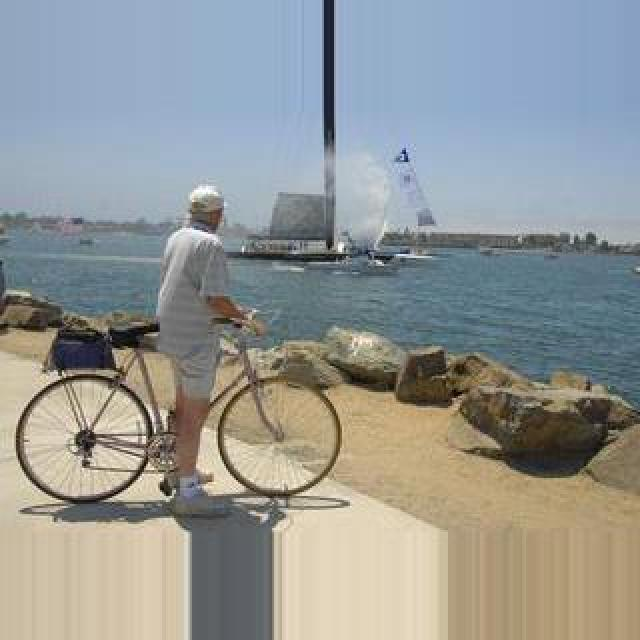MC-Bike: (150, 182, 260, 506)
Person: (12, 329, 334, 511)
